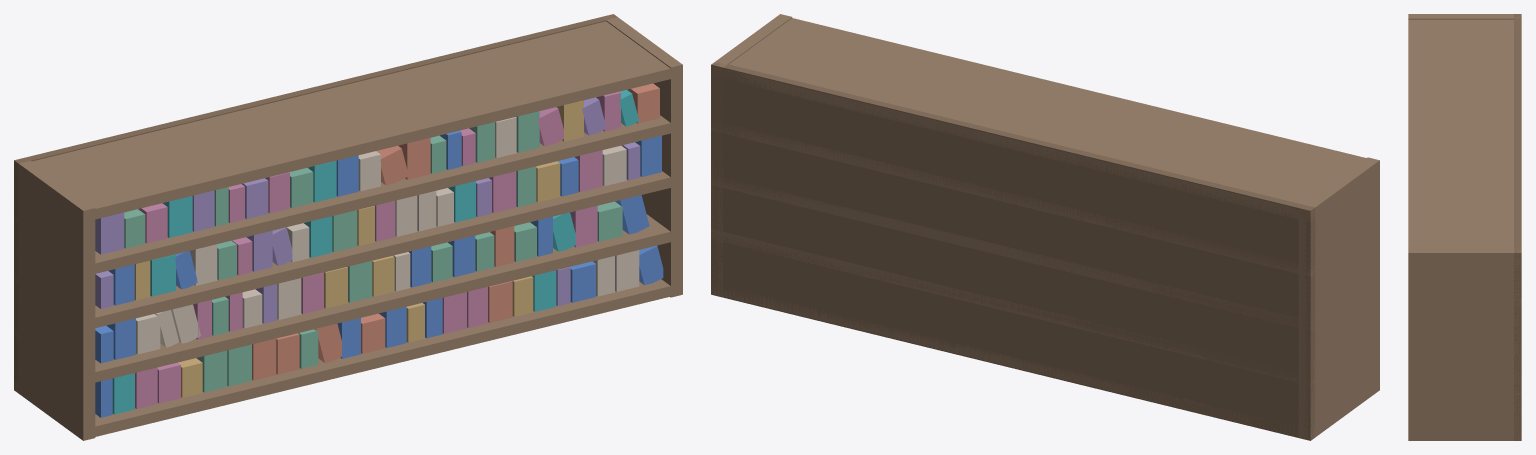
Rendered from library_shelf.glb.
3 renders of one model, left to right at view 1: azimuth 30°, elevation 25°; view 2: azimuth 150°, elevation 25°; view 3: azimuth 270°, elevation 25°, orthographic. The views are drawn at different scales.
Size of the model in its own units: 6 by 2.2 by 1.2.
